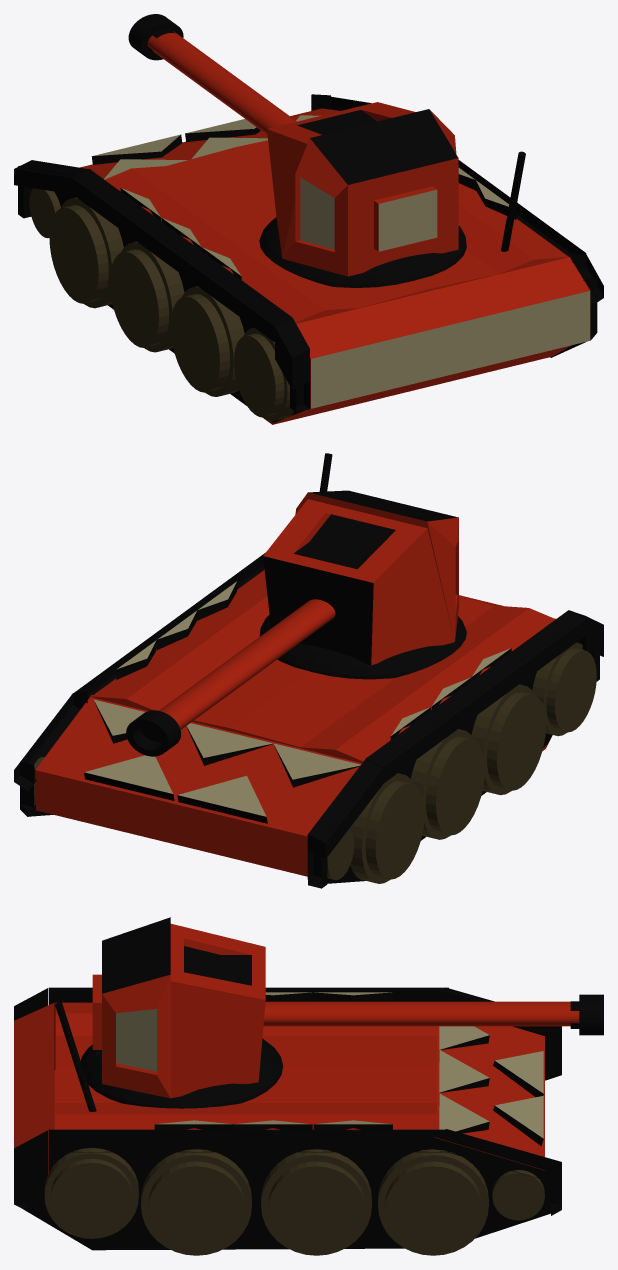
File: EnemyTank.fbx
3 renders of one model, top to bottom at view 1: azimuth 30°, elevation 25°; view 2: azimuth 150°, elevation 25°; view 3: azimuth 270°, elevation 25°, orthographic.
Visible parts, largest first — view 1: Cube.004, Cylinder.001, Cube.001, Cylinder.005, Cylinder.006, Cylinder.008, Sphere, Cylinder.007, Cube.002, Cube.007, Cube, Cylinder.010 (+3 smaller); view 2: Cube.004, Cylinder.001, Cube.001, Cylinder.008, Cylinder.005, Cylinder.006, Cube, Cube.007, Cube.002, Cylinder.007, Sphere, Cube.003 (+2 smaller); view 3: Cube.004, Cylinder.001, Cube.002, Cylinder.002, Cylinder, Cylinder.004, Cylinder.003, Cube.001, Sphere, Cube, Cube.007, Cylinder.009 (+3 smaller).
Boxes of the visible parts, <box> form: Cube.004: <box>80,108,590,424</box>; Cylinder.001: <box>128,14,458,276</box>; Cube.001: <box>14,160,309,422</box>; Cylinder.005: <box>170,286,244,396</box>; Cylinder.006: <box>110,241,184,352</box>; Cylinder.008: <box>49,197,123,308</box>; Sphere: <box>259,217,466,287</box>; Cylinder.007: <box>234,327,294,421</box>; Cube.002: <box>311,94,603,357</box>; Cube.007: <box>91,119,260,164</box>; Cube: <box>104,115,320,179</box>; Cylinder.010: <box>29,188,60,238</box>; Cube.004: <box>35,570,555,876</box>; Cylinder.001: <box>126,490,458,756</box>; Cube.001: <box>307,610,603,888</box>; Cylinder.008: <box>349,773,424,883</box>; Cylinder.005: <box>471,684,546,795</box>; Cylinder.006: <box>411,729,485,839</box>; Cube: <box>93,699,360,787</box>; Cube.007: <box>84,755,267,823</box>; Cube.002: <box>14,552,265,816</box>; Cylinder.007: <box>532,642,596,736</box>; Sphere: <box>259,615,466,679</box>; Cube.003: <box>116,581,237,679</box>; Cube.004: <box>14,1002,544,1248</box>; Cylinder.001: <box>92,917,603,1098</box>; Cube.002: <box>14,1129,561,1250</box>; Cylinder.002: <box>141,1149,251,1255</box>; Cylinder: <box>261,1149,371,1255</box>; Cylinder.004: <box>378,1149,488,1255</box>; Cylinder.003: <box>44,1148,138,1238</box>; Cube.001: <box>14,987,561,1080</box>; Sphere: <box>81,1038,283,1108</box>; Cube: <box>439,1026,489,1133</box>; Cube.007: <box>493,1051,543,1146</box>; Cylinder.009: <box>492,1170,544,1220</box>.
Bounding box in the file's own units: 606 × 423 × 958.
